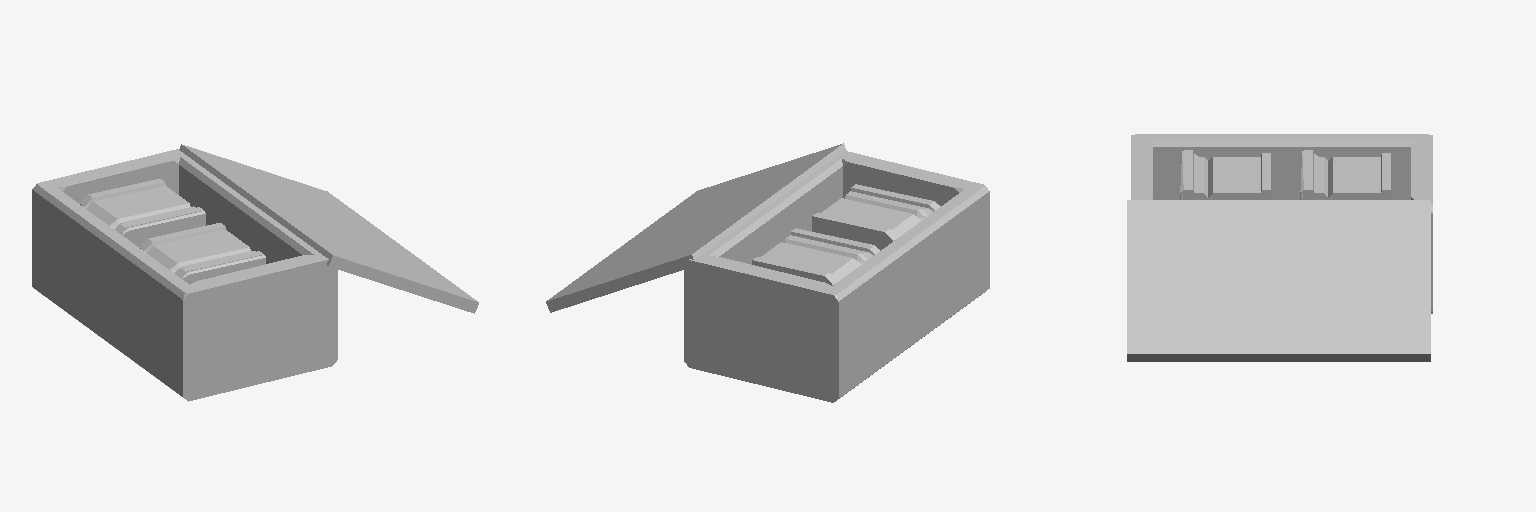
File: ammo.obj
3 renders of one model, left to right at view 1: azimuth 30°, elevation 25°; view 2: azimuth 150°, elevation 25°; view 3: azimuth 270°, elevation 25°, orthographic.
Parts seen in each view (by area): view 1: Box143; view 2: Box143; view 3: Box143.
Part boxes in pixels (x1,y1,x2,y2): Box143: (32,144,478,401); Box143: (546,143,989,402); Box143: (1127,134,1432,361).
Size of the model in its own units: 0.5255 by 0.1924 by 0.4734.